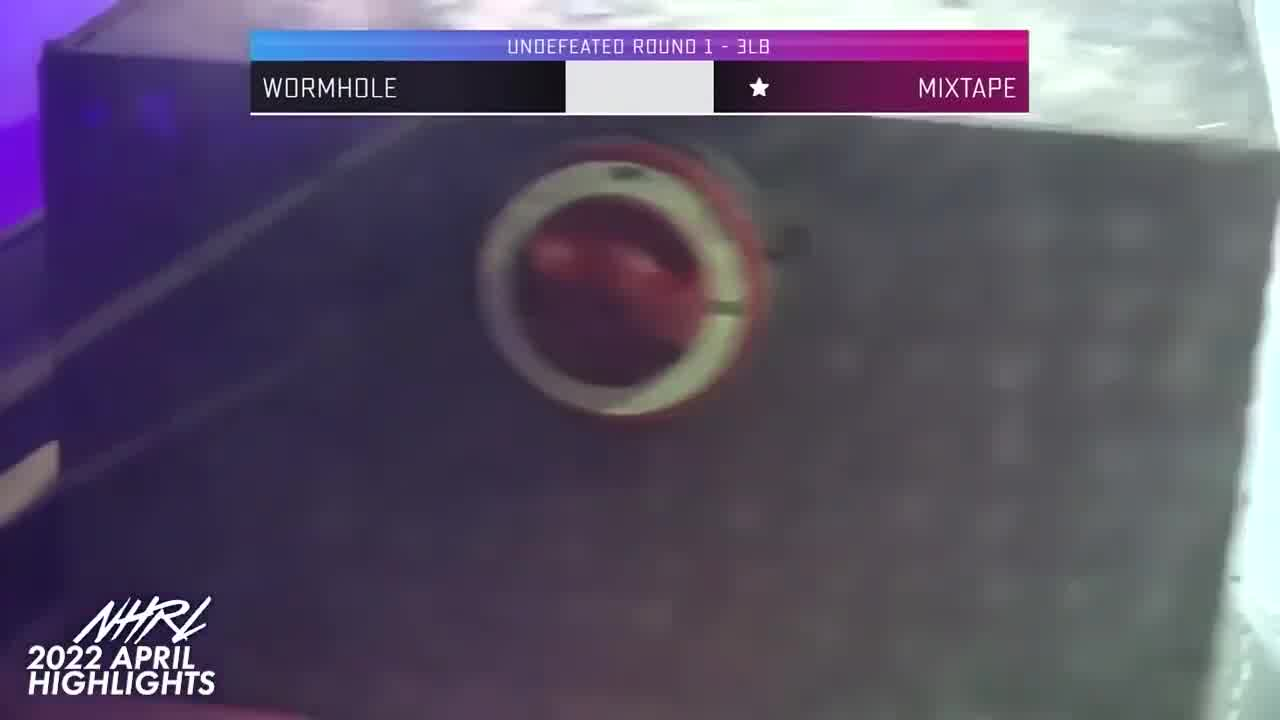housebot: (39, 2, 1280, 720)
